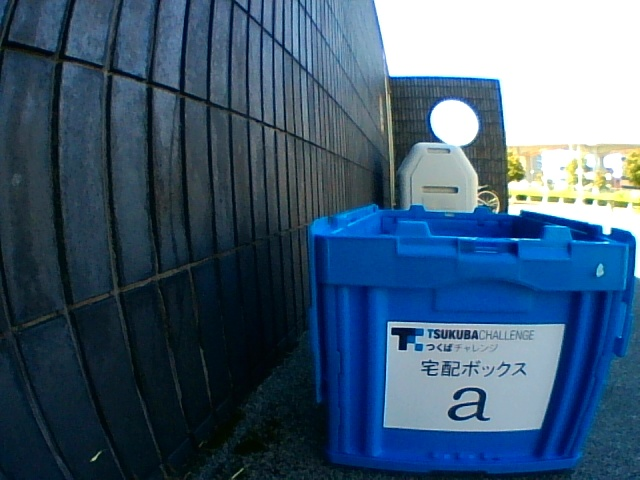blue_box: (309, 204, 636, 474)
tag_a: (393, 326, 539, 427)
